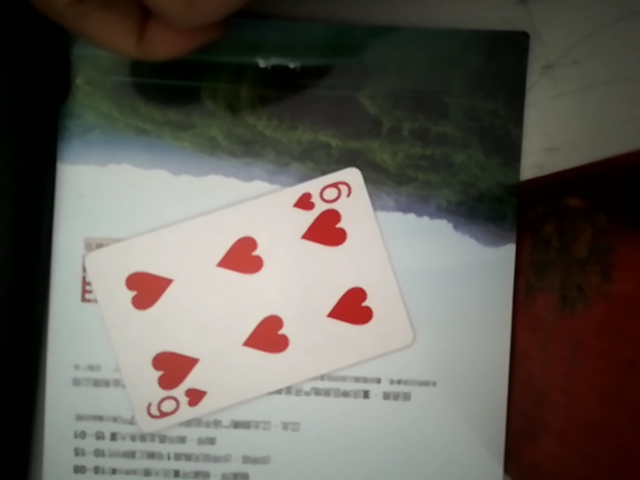hx 6: (82, 168, 415, 431)
